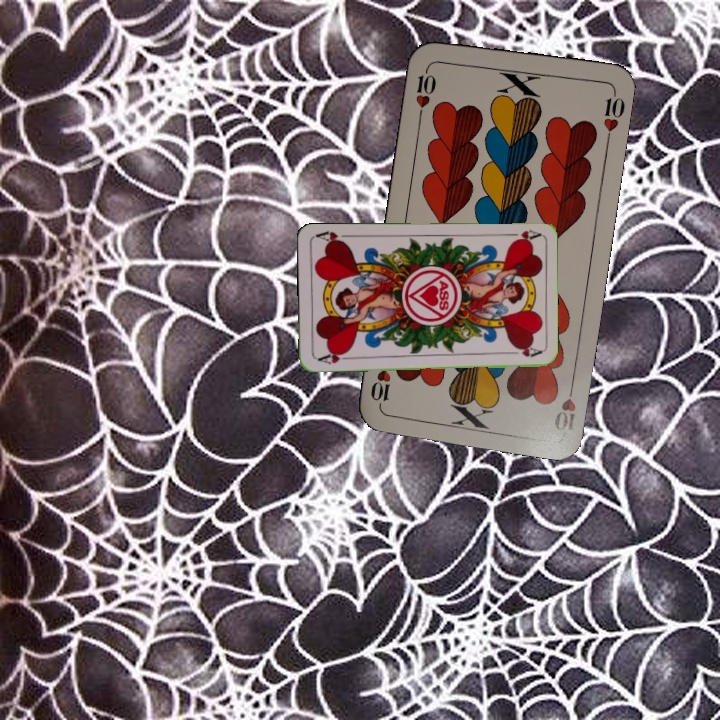H10: (550, 376, 579, 436), (411, 61, 439, 120)
HA: (314, 347, 353, 367), (501, 226, 541, 245)
